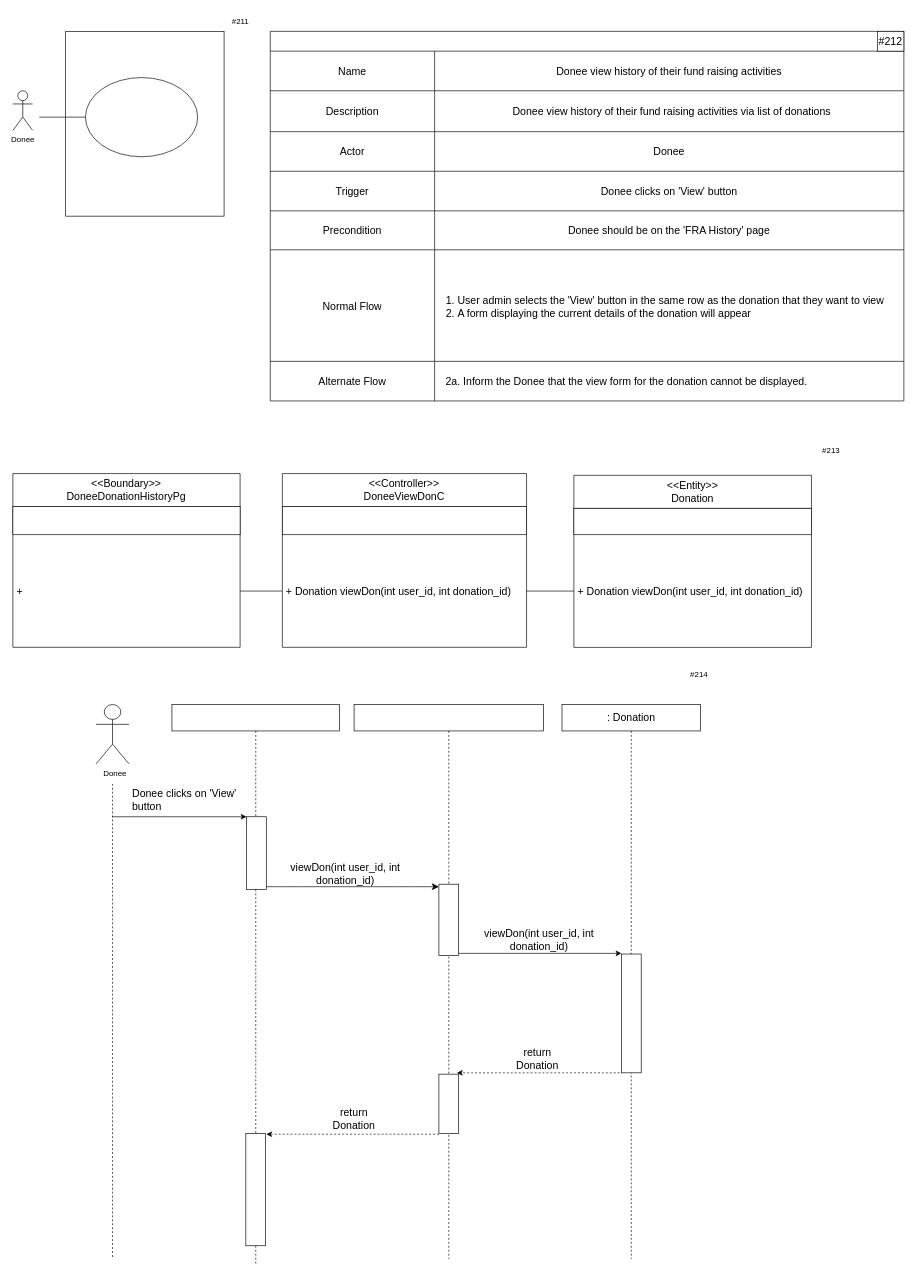
Image size: 922x1277. Some labels were removed from this diagram. Here are the shapes that lost their labels. From the top down, the box of each, then its label:
(85, 77, 198, 157): View History of my Fund Raising Activities
(171, 704, 340, 1266): : DoneeDonationHistoryPg
(353, 704, 544, 1259): : DoneeViewDonC
